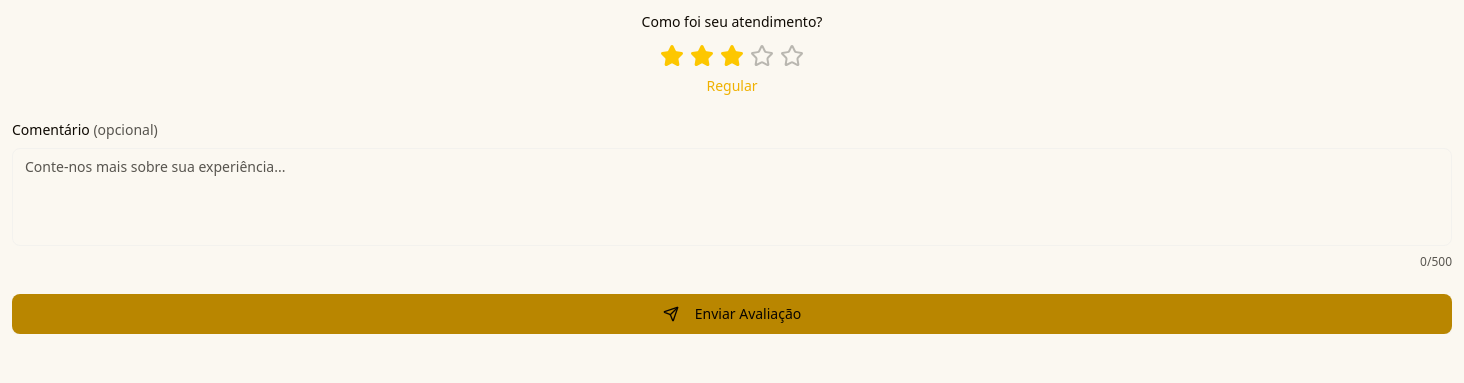
FeedbackForm › shows error message on submit failure
Step 1. Click the button "Enviar Avaliação" → (732, 314), box [12,294,1452,334]
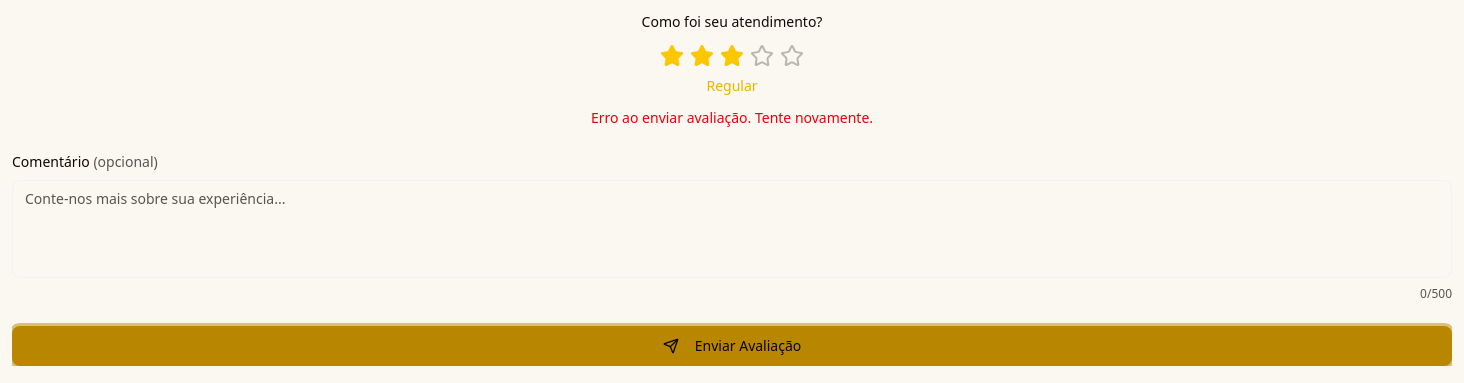
Expected: the text "Erro ao enviar avaliação. Tente novamente." is shown, [591,108,873,127]
